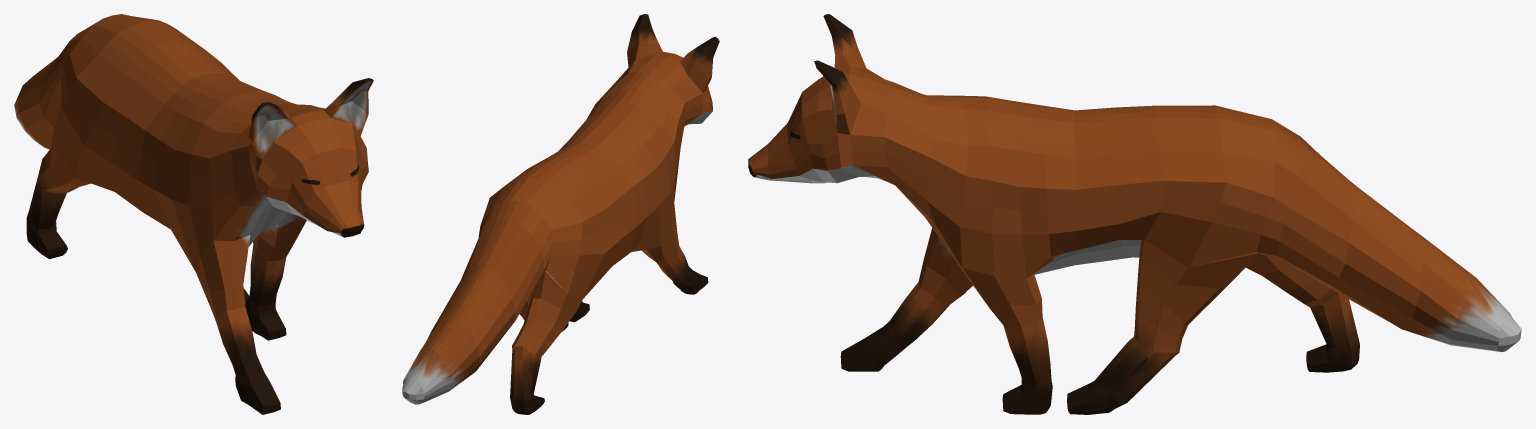
The model's file is fox.glb.
3 renders of one model, left to right at view 1: azimuth 30°, elevation 25°; view 2: azimuth 150°, elevation 25°; view 3: azimuth 270°, elevation 25°, orthographic. The views are drawn at different scales.
Parts seen in each view (by area): view 1: fox; view 2: fox; view 3: fox.
Part boxes in pixels (left/top/right/bottom): fox: left=14, top=14, right=373, bottom=414; fox: left=402, top=14, right=719, bottom=414; fox: left=748, top=14, right=1521, bottom=414.
Size of the model in its own units: 1.53 by 3.58 by 7.12.
1 material, 1 textured.
